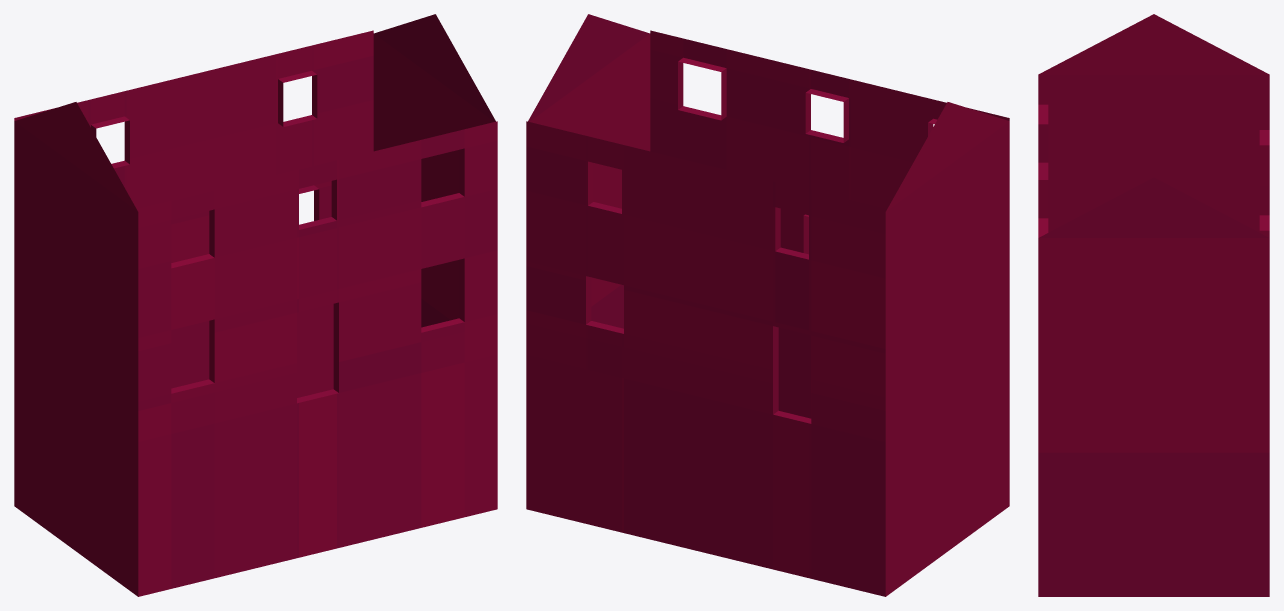
Rendered from SM_Bld_055_Masonry.glb.
3 renders of one model, left to right at view 1: azimuth 30°, elevation 25°; view 2: azimuth 150°, elevation 25°; view 3: azimuth 270°, elevation 25°, orthographic. The views are drawn at different scales.
Parts seen in each view (by area): view 1: SM_Bld_055_Masonry; view 2: SM_Bld_055_Masonry; view 3: SM_Bld_055_Masonry.
Part boxes in pixels (bbox=[...]): SM_Bld_055_Masonry: bbox=[14, 14, 497, 596]; SM_Bld_055_Masonry: bbox=[526, 14, 1009, 596]; SM_Bld_055_Masonry: bbox=[1038, 14, 1269, 596].
Size of the model in its own units: 8.5 by 10.17 by 5.08.
